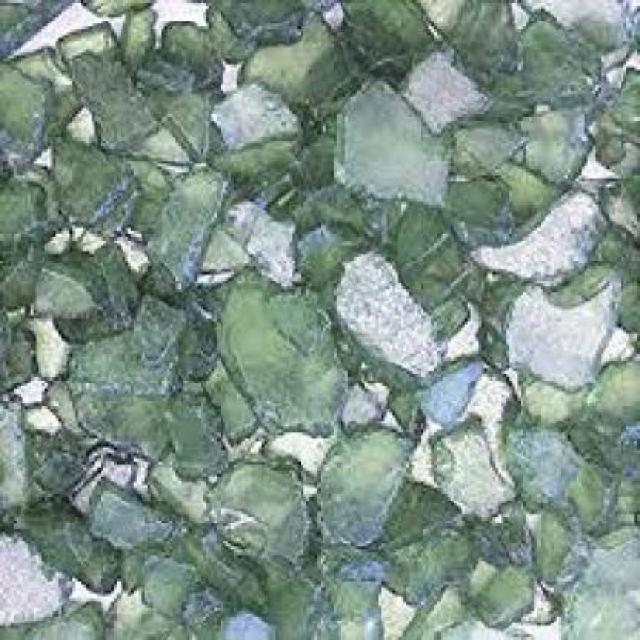kaca: (0, 0, 637, 637), (217, 263, 345, 426), (331, 68, 462, 214), (474, 266, 618, 386), (328, 250, 437, 396), (70, 322, 178, 468), (226, 6, 360, 114), (358, 471, 468, 602), (476, 3, 602, 114), (196, 448, 306, 568), (312, 425, 417, 549), (468, 188, 602, 283), (75, 474, 183, 581), (571, 348, 637, 523), (6, 503, 128, 591), (143, 156, 229, 278), (550, 523, 638, 637), (389, 197, 474, 314), (49, 243, 148, 339), (198, 71, 302, 158), (0, 38, 75, 158), (41, 132, 134, 226), (68, 49, 158, 146), (426, 0, 517, 94), (169, 520, 262, 611), (426, 412, 506, 517), (320, 0, 440, 68), (210, 128, 312, 208), (512, 0, 637, 62), (392, 42, 482, 126), (512, 100, 588, 191), (388, 351, 477, 426), (463, 369, 519, 483), (581, 59, 637, 172), (465, 549, 557, 617), (0, 529, 65, 625), (502, 418, 568, 509), (89, 114, 189, 172), (162, 392, 230, 477), (162, 12, 230, 97), (231, 197, 300, 278), (0, 392, 45, 516), (286, 208, 368, 269), (591, 222, 637, 328), (262, 552, 323, 631), (197, 348, 251, 435), (34, 252, 109, 314), (134, 540, 192, 620), (395, 578, 471, 637), (134, 46, 192, 123), (120, 289, 192, 351), (0, 152, 51, 237), (448, 172, 506, 246), (181, 226, 257, 282), (198, 3, 257, 75), (259, 422, 326, 483), (262, 120, 340, 172), (0, 228, 48, 312), (320, 572, 382, 637), (564, 456, 616, 530), (6, 600, 106, 637), (409, 270, 465, 336), (518, 374, 591, 424), (0, 59, 42, 143), (532, 508, 578, 584), (492, 155, 551, 214), (0, 0, 77, 45), (471, 552, 523, 617), (140, 457, 198, 515), (23, 303, 65, 383), (39, 377, 86, 448), (61, 452, 130, 500), (474, 497, 529, 555), (581, 168, 637, 223), (31, 418, 80, 480), (298, 178, 376, 216), (55, 23, 114, 71), (180, 581, 220, 634), (114, 6, 154, 56), (103, 584, 142, 634), (217, 605, 271, 637), (77, 0, 154, 22), (134, 249, 175, 286), (23, 394, 55, 438), (131, 611, 183, 637), (13, 374, 44, 409)
